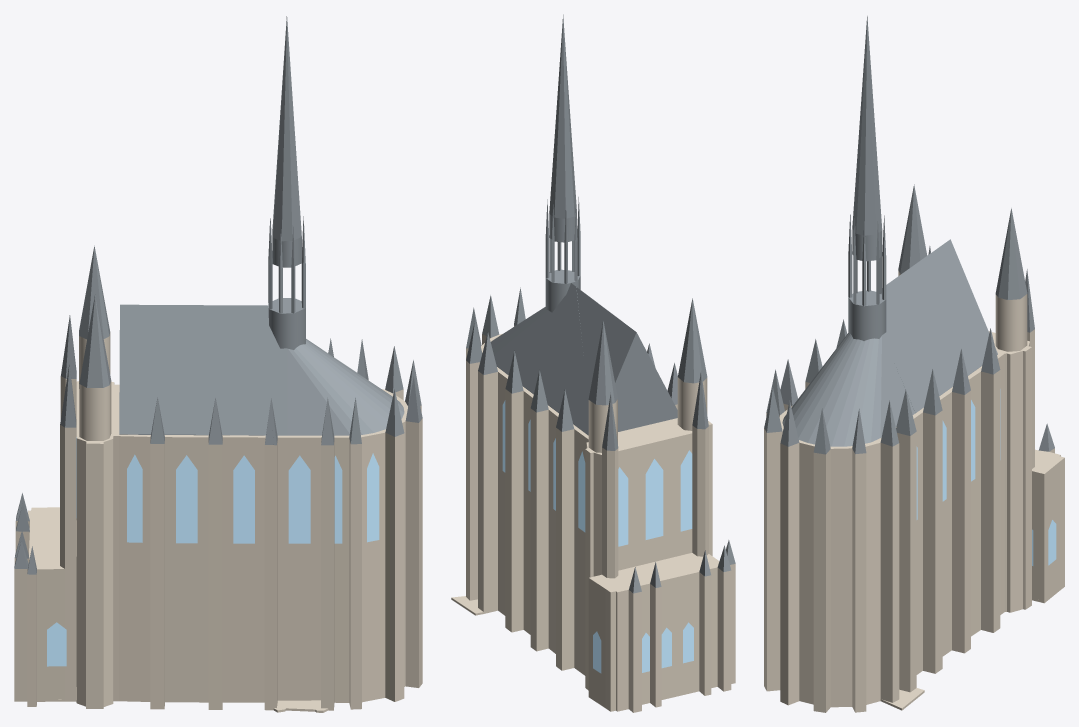
3 views of the same model, side by side, from view 1: azimuth 30°, elevation 25°; view 2: azimuth 150°, elevation 25°; view 3: azimuth 270°, elevation 25° (orthographic). The views are drawn at different scales.
Visible parts, largest first — view 1: stone, roof, window; view 2: stone, roof, window; view 3: stone, roof, window.
Boxes of the visible parts, x1,y1,x2,y2 form: stone: (14, 332, 422, 712); roof: (14, 16, 422, 574); window: (47, 437, 379, 666); stone: (451, 325, 735, 712); roof: (466, 14, 735, 593); window: (502, 400, 693, 673); stone: (764, 271, 1064, 712); roof: (764, 16, 1054, 454); window: (916, 389, 1056, 565).
Bounding box in the file's own units: 40.37 × 75 × 31.64.
